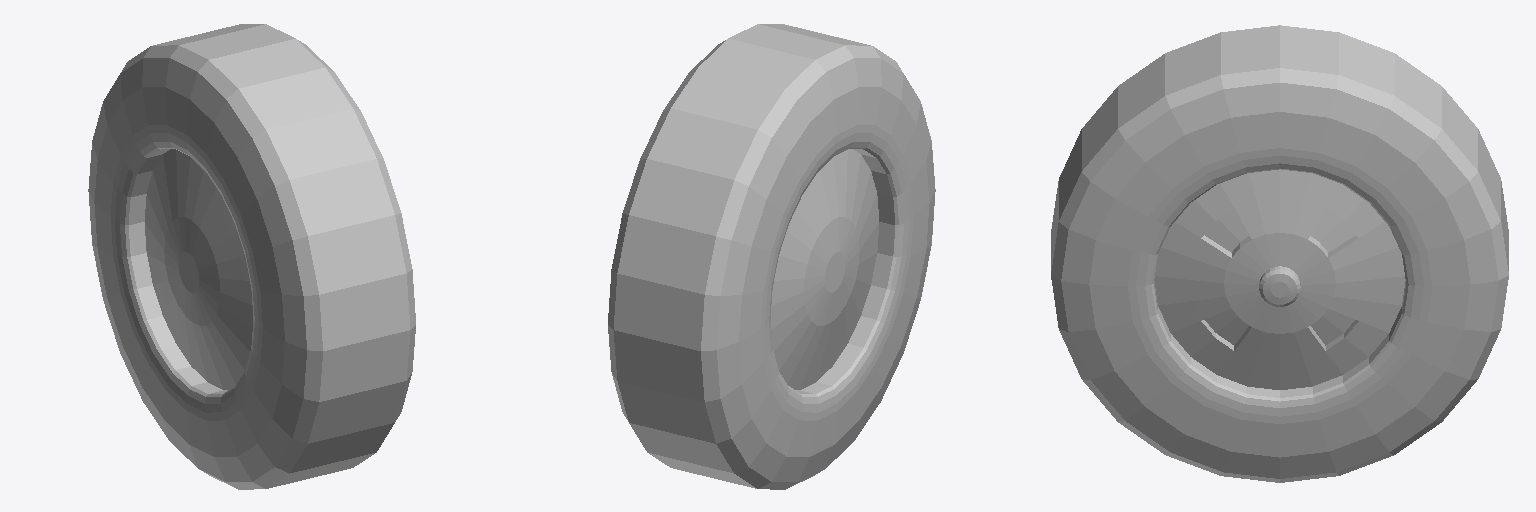
Rendered from llantaTraIzq.obj.
3 renders of one model, left to right at view 1: azimuth 30°, elevation 25°; view 2: azimuth 150°, elevation 25°; view 3: azimuth 270°, elevation 25°, orthographic.
Visible parts, largest first — view 1: truck_wheel__rear.002; view 2: truck_wheel__rear.002; view 3: truck_wheel__rear.002.
Boxes of the visible parts, x1=… form: truck_wheel__rear.002: x1=88, y1=24, x2=415, y2=489; truck_wheel__rear.002: x1=608, y1=24, x2=935, y2=489; truck_wheel__rear.002: x1=1051, y1=25, x2=1508, y2=482.
Size of the model in its own units: 1.43 by 4.09 by 4.09.